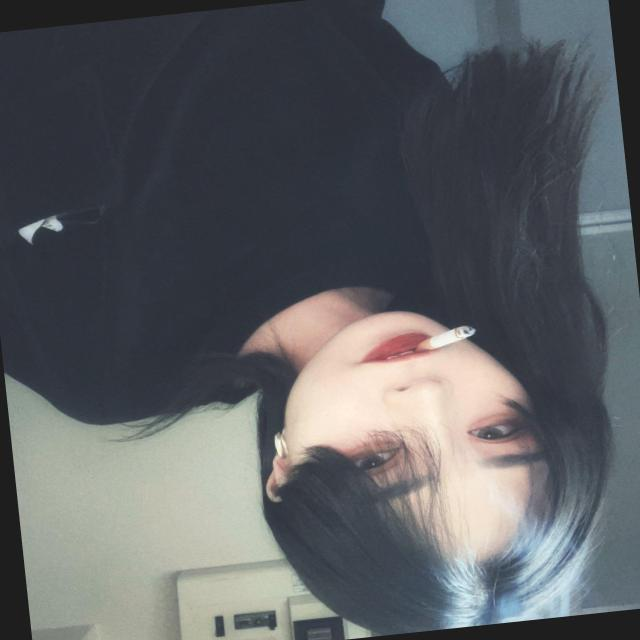cigarette: (388, 310, 492, 366)
